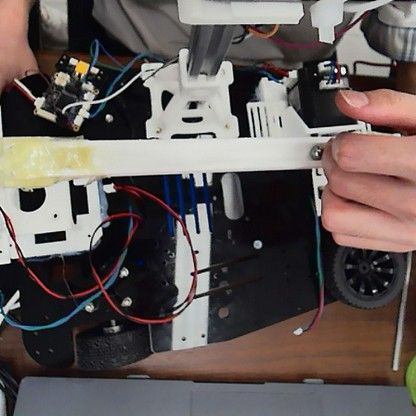ironball: (308, 145, 324, 161)
